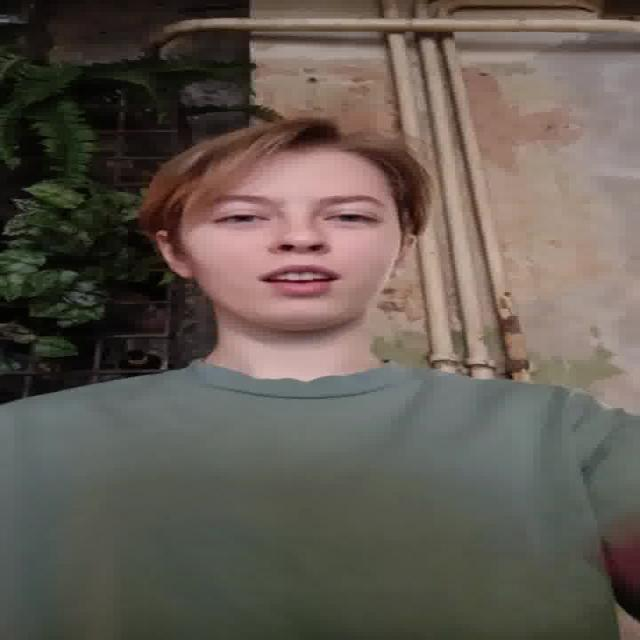earlobe: (172, 261, 194, 279)
eye: (213, 212, 271, 226), (322, 213, 378, 224)
nose: (272, 249, 329, 265)
wholeear: (153, 230, 193, 280), (386, 235, 419, 279)
